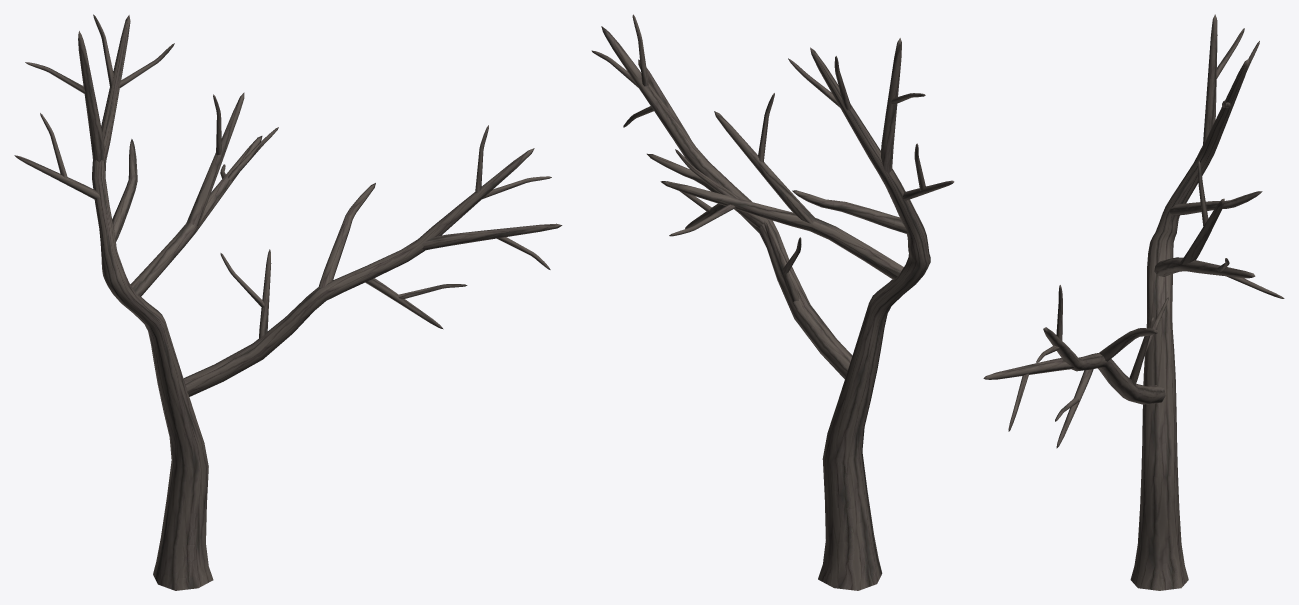
Rendered from DeadTree_6.glb.
The picture shows the model from 3 angles, left to right: view 1: azimuth 30°, elevation 25°; view 2: azimuth 150°, elevation 25°; view 3: azimuth 270°, elevation 25°; orthographic projection. The views are drawn at different scales.
Parts seen in each view (by area): view 1: DeadTree_6; view 2: DeadTree_6; view 3: DeadTree_6.
Boxes of the visible parts, left/top/right/bottom form: DeadTree_6: left=14, top=14, right=562, bottom=590; DeadTree_6: left=591, top=14, right=954, bottom=590; DeadTree_6: left=983, top=14, right=1284, bottom=590.
Bounding box in the file's own units: 5.41 × 6.41 × 3.3.
Materials: 1 (1 with a texture image).
